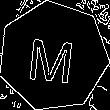M_N: (28, 29, 79, 84)
